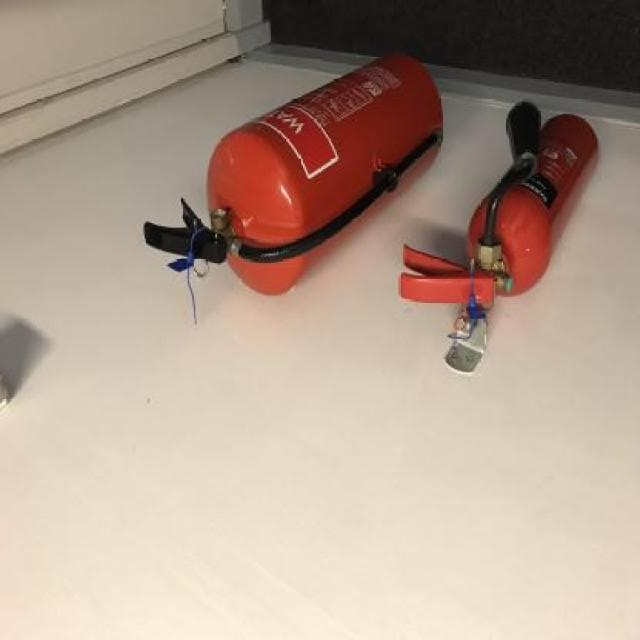fire extinguisher: (143, 52, 443, 297), (398, 100, 600, 323)
